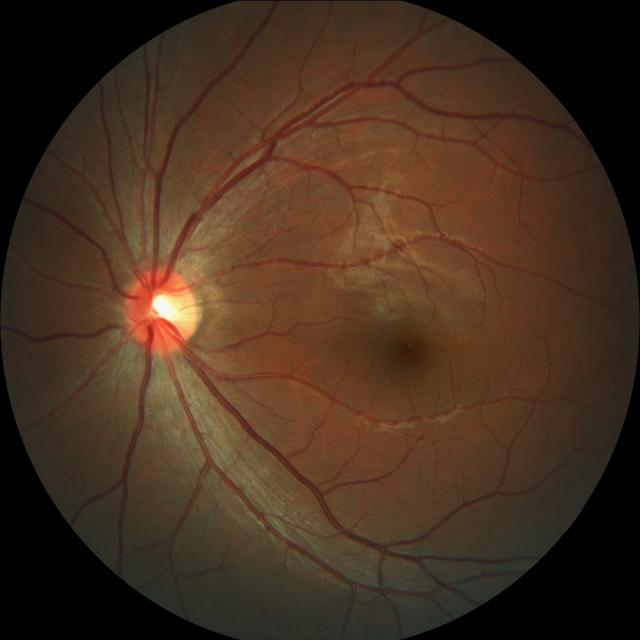OC: (145, 288, 179, 326)
OD: (121, 266, 199, 352)
